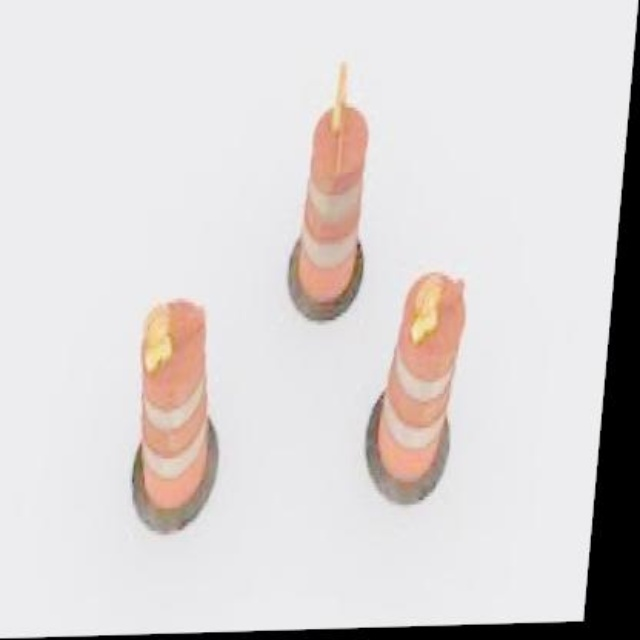obstacle: (127, 295, 230, 518), (380, 275, 479, 501), (300, 90, 377, 316)
